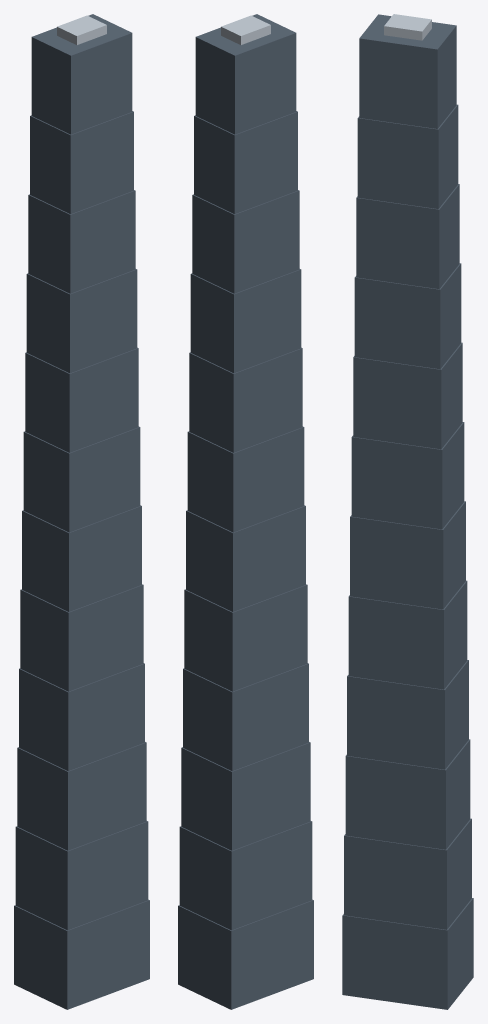
Rendered from bishop.glb.
The picture shows the model from 3 angles, left to right: view 1: azimuth 30°, elevation 25°; view 2: azimuth 210°, elevation 25°; view 3: azimuth 330°, elevation 25°; orthographic projection.
Parts seen in each view (by area): view 1: bishop; view 2: bishop; view 3: bishop.
Boxes of the visible parts, x1,y1,x2,y2 form: bishop: (14,14,149,1009); bishop: (178,14,313,1009); bishop: (342,14,473,1009).
Bounding box in the file's own units: 0.4445 × 3.78 × 0.3603.
